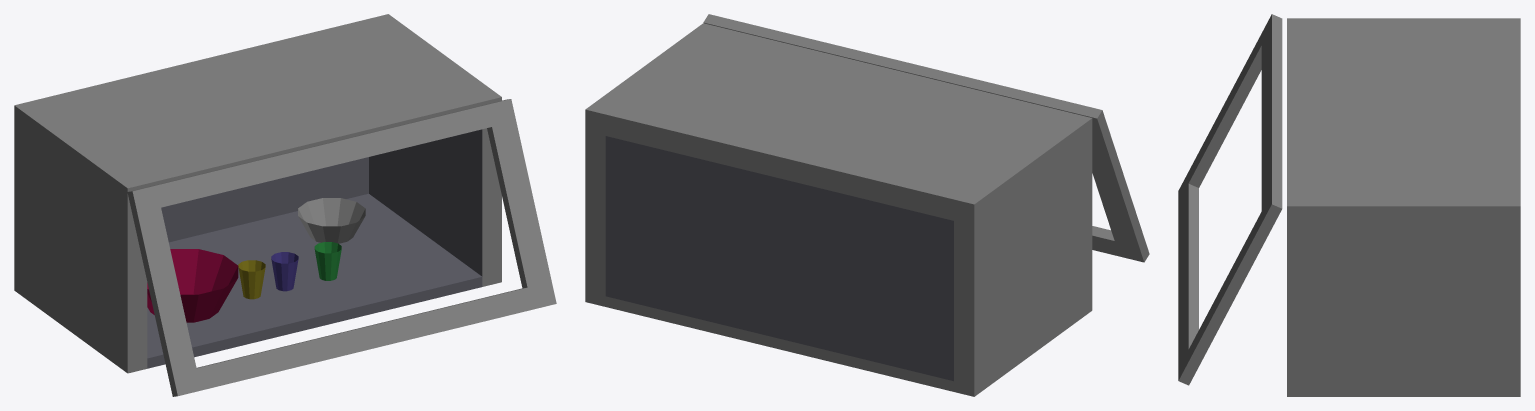
File: pensile_cucina_45x90_Scene.obj
The picture shows the model from 3 angles, left to right: view 1: azimuth 30°, elevation 25°; view 2: azimuth 150°, elevation 25°; view 3: azimuth 270°, elevation 25°; orthographic projection. The views are drawn at different scales.
Parts seen in each view (by area): view 1: Cube_Cube_Material_Ma_Cube_Cube_Material_Ma_Material, Cube_Cube_Material.00_Cube_Cube_Material.00_Material.001, Circle_Circle.004_Circle_Circle.004_Material.002, Circle.007_Circle_Circle.007_Circle_Material, Circle_Circle.004_Cir_Circle_Circle.004_Cir_Material.002, Circle.001_Circle.010_Circle.001_Circle.010_Material.005, Circle.006_Circle_Circle.006_Circle_Material.004, Circle.002_Circle_Cir_Circle.002_Circle_Cir_Material.003, Circle.007_Circle_Cir_Circle.007_Circle_Cir_Material; view 2: Cube_Cube_Material_Ma_Cube_Cube_Material_Ma_Material, Cube_Cube_Material.00_Cube_Cube_Material.00_Material.001; view 3: Cube_Cube_Material_Ma_Cube_Cube_Material_Ma_Material.
Part boxes in pixels (x1,y1,x2,y2): Cube_Cube_Material_Ma_Cube_Cube_Material_Ma_Material: (14,14,556,396); Cube_Cube_Material.00_Cube_Cube_Material.00_Material.001: (147,129,482,368); Circle_Circle.004_Circle_Circle.004_Material.002: (147,249,238,322); Circle.007_Circle_Circle.007_Circle_Material: (298,198,365,243); Circle_Circle.004_Cir_Circle_Circle.004_Cir_Material.002: (147,249,237,321); Circle.001_Circle.010_Circle.001_Circle.010_Material.005: (238,260,265,299); Circle.006_Circle_Circle.006_Circle_Material.004: (314,242,341,280); Circle.002_Circle_Cir_Circle.002_Circle_Cir_Material.003: (271,252,298,291); Circle.007_Circle_Cir_Circle.007_Circle_Cir_Material: (298,198,365,243); Cube_Cube_Material_Ma_Cube_Cube_Material_Ma_Material: (585,14,1149,396); Cube_Cube_Material.00_Cube_Cube_Material.00_Material.001: (605,136,953,381); Cube_Cube_Material_Ma_Cube_Cube_Material_Ma_Material: (1178,14,1520,396).
Bounding box in the file's own units: 3.85 × 1.83 × 2.93.
